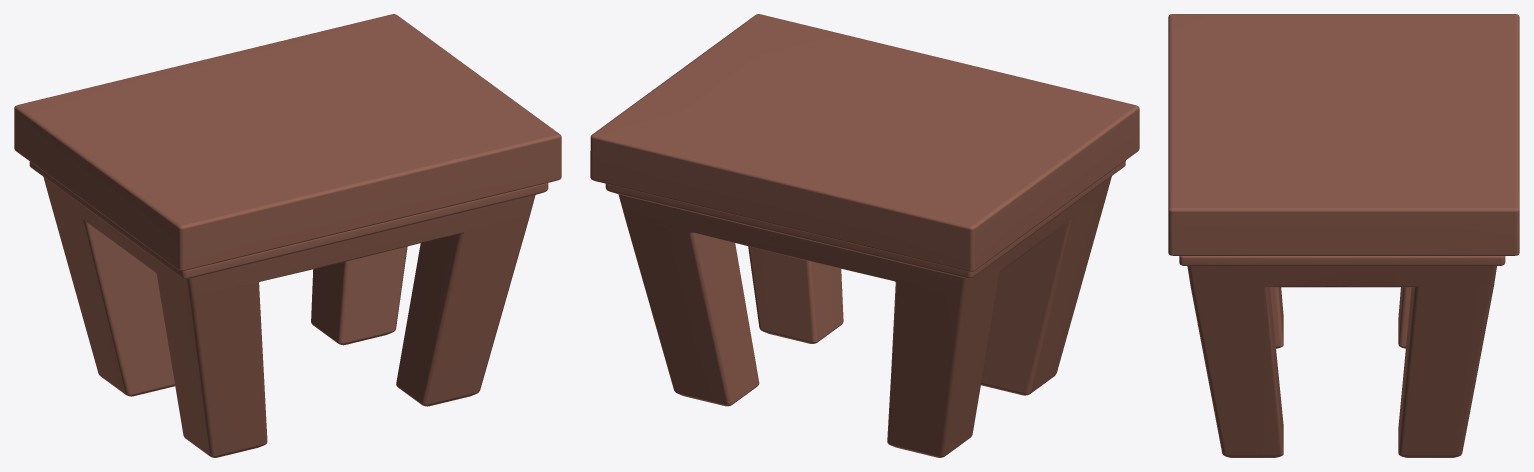
The model's file is SM_Altar_Table.fbx.
3 renders of one model, left to right at view 1: azimuth 30°, elevation 25°; view 2: azimuth 150°, elevation 25°; view 3: azimuth 270°, elevation 25°, orthographic. The views are drawn at different scales.
Visible parts, largest first — view 1: altarTable; view 2: altarTable; view 3: altarTable.
Boxes of the visible parts, bbox=[...] form: altarTable: bbox=[14, 14, 561, 457]; altarTable: bbox=[590, 14, 1139, 457]; altarTable: bbox=[1168, 14, 1519, 457].
Size of the model in its own units: 376 by 252 by 285.
